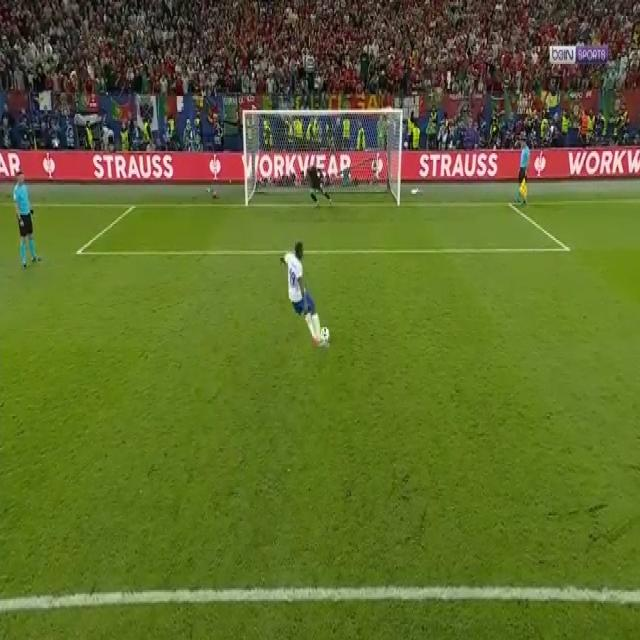arbitre: (7, 165, 39, 269), (509, 138, 531, 212)
ball: (320, 323, 330, 349)
cage: (244, 116, 399, 205)
gardien: (307, 145, 331, 201)
joueur: (286, 219, 320, 395)
